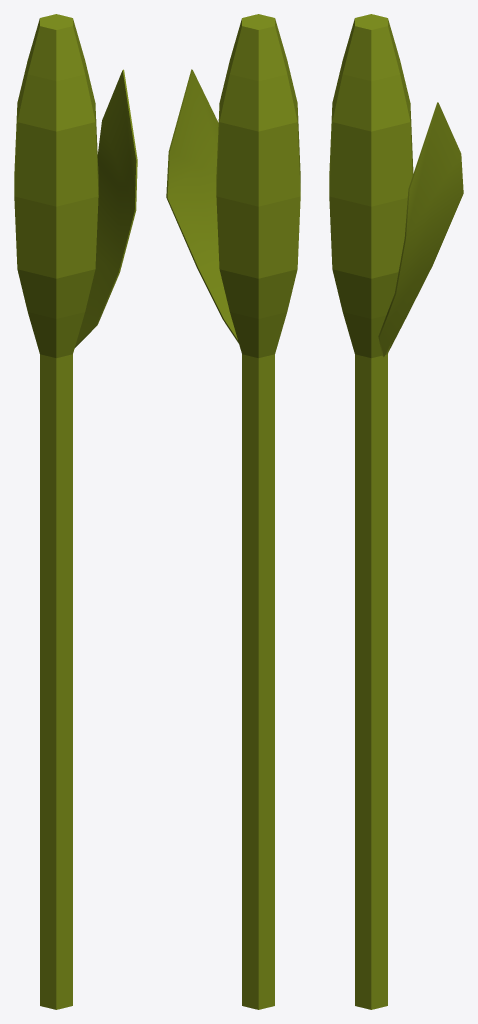
File: Blé.FBX
3 renders of one model, left to right at view 1: azimuth 30°, elevation 25°; view 2: azimuth 150°, elevation 25°; view 3: azimuth 330°, elevation 25°, orthographic.
Parts seen in each view (by area): view 1: Cylinder001, Plane001; view 2: Cylinder001, Plane001; view 3: Cylinder001, Plane001.
Part boxes in pixels (x1,y1,x2,y2): Cylinder001: (14,14,98,1009); Plane001: (75,69,137,347); Cylinder001: (216,14,300,1009); Plane001: (166,69,238,343); Cylinder001: (329,14,413,1009); Plane001: (378,102,463,356).
Size of the model in its own units: 1.65 by 13.93 by 1.23.
